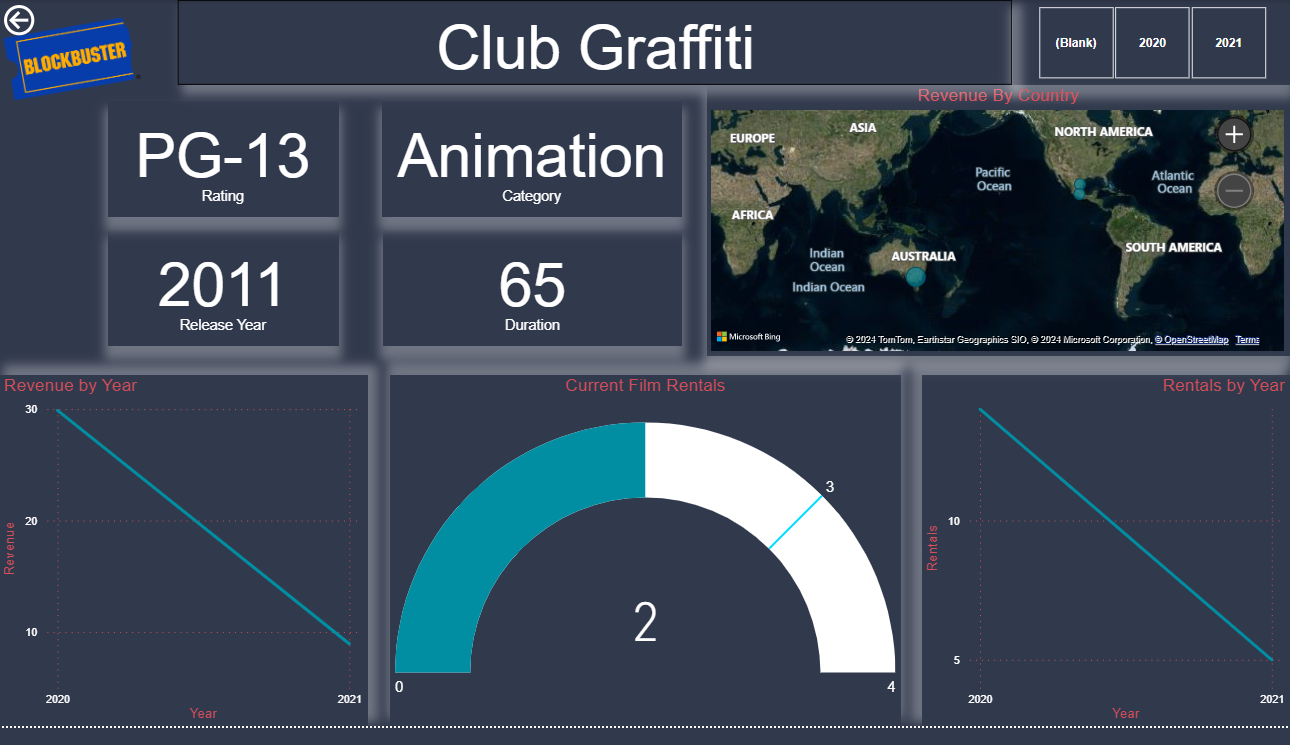

Layout of this report page (visuals, bound fields, positions):
{"tool":"powerbi","page":{"name":"Film Dashboard","canvas":[1280,720],"ordinal":1},"visuals":[{"type":"image","box":[0,0,145.5,117.4],"z":0},{"type":"slicer","title":"Year","fields":{"Values":["dim_date.full_date.Variation.Date Hierarchy.Year"]},"box":[1004.8,0,275,84.3],"z":1000},{"type":"map","title":"Revenue By Country","fields":{"Category":["dim_customer.country","dim_customer.city"],"Size":["fact_rental.Revenue"]},"box":[701.7,84.3,578.2,268.9],"z":2000},{"type":"actionButton","box":[0,0,100,40],"z":3000},{"type":"card","fields":{"Values":["Min(dim_film.title)"]},"box":[177.2,0,827.6,84.3],"z":4000},{"type":"gauge","title":"Current Film Rentals","fields":{"Y":["fact_rental.MoviesInRental"],"TargetValue":["fact_rental.Target Movie Rental"]},"box":[387.5,371.6,506.1,348.4],"z":5000},{"type":"lineChart","fields":{"Category":["dim_date.full_date.Variation.Date Hierarchy.Year"],"Y":["fact_rental.TotalRentals"]},"box":[914.4,371.6,365.5,348.4],"z":6000},{"type":"lineChart","fields":{"Category":["dim_date.full_date.Variation.Date Hierarchy.Year"],"Y":["fact_rental.Revenue"]},"box":[0,371.6,365.5,348.4],"z":7000},{"type":"card","fields":{"Values":["Min(dim_film.rating)"]},"box":[107.6,100.2,228.6,114.9],"z":8000},{"type":"card","fields":{"Values":["Max(dim_film.release_year)"]},"box":[107.6,228.6,228.6,114.9],"z":9000},{"type":"card","fields":{"Values":["Min(dim_film.category_name)"]},"box":[378.9,100.2,298.3,114.9],"z":10000},{"type":"card","fields":{"Values":["Max(dim_film.length)"]},"box":[380.2,228.6,297,114.9],"z":11000}]}

Visuals, with their boxes in screenshot pixels (x1, y1, x2, y2), scaled from the page's 1280x720 canvas onto the 1290x745 screenshot:
image: select_region(0, 0, 147, 121)
"Year" slicer: select_region(1013, 0, 1289, 87)
"Revenue By Country" map: select_region(707, 87, 1289, 365)
actionButton: select_region(0, 0, 101, 41)
card - Min(dim_film.title): select_region(179, 0, 1013, 87)
"Current Film Rentals" gauge: select_region(391, 385, 901, 744)
lineChart - dim_date.full_date.Variation.Date Hierarchy.Year x fact_rental.TotalRentals: select_region(922, 385, 1289, 744)
lineChart - dim_date.full_date.Variation.Date Hierarchy.Year x fact_rental.Revenue: select_region(0, 385, 368, 744)
card - Min(dim_film.rating): select_region(108, 104, 339, 223)
card - Max(dim_film.release_year): select_region(108, 237, 339, 355)
card - Min(dim_film.category_name): select_region(382, 104, 682, 223)
card - Max(dim_film.length): select_region(383, 237, 682, 355)
